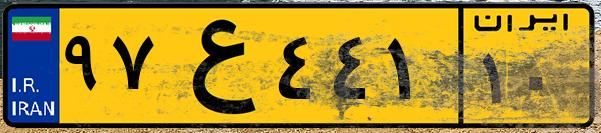0: (525, 38, 570, 115)
1: (385, 28, 445, 110), (475, 38, 525, 113)
4: (270, 28, 330, 110), (330, 28, 385, 110)
7: (110, 28, 158, 98)
9: (57, 26, 110, 100)
ع: (158, 12, 270, 120)
